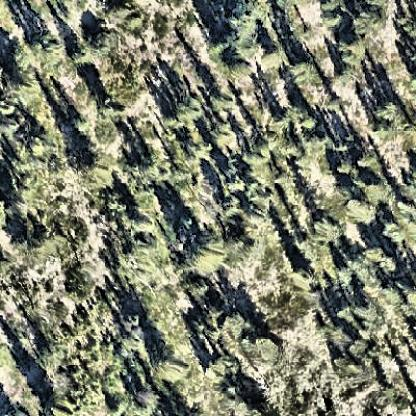tree-top: (180, 229, 228, 275), (3, 37, 43, 81), (149, 344, 189, 379), (333, 32, 368, 69), (218, 48, 257, 77), (353, 172, 389, 202), (310, 209, 343, 241), (287, 54, 323, 83), (176, 91, 205, 127), (91, 26, 120, 58)
